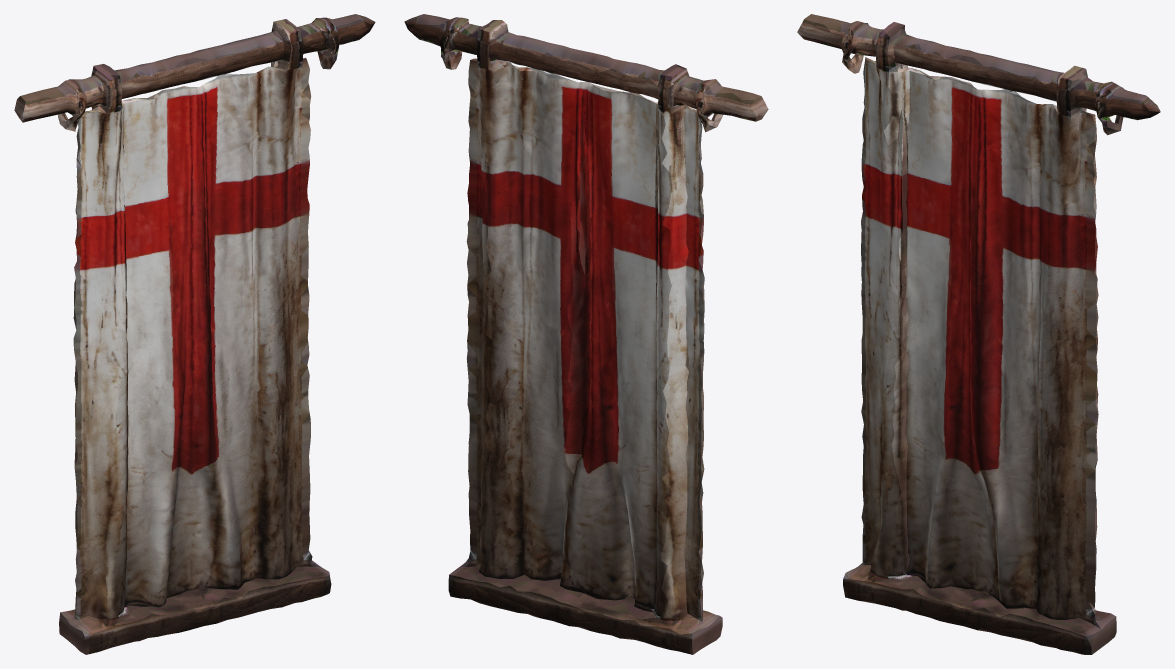
File: banner.glb
The picture shows the model from 3 angles, left to right: view 1: azimuth 30°, elevation 25°; view 2: azimuth 150°, elevation 25°; view 3: azimuth 330°, elevation 25°; orthographic projection.
Visible parts, largest first — view 1: geometry_0; view 2: geometry_0; view 3: geometry_0.
Boxes of the visible parts, x1,y1,x2,y2 form: geometry_0: [14, 14, 375, 654]; geometry_0: [404, 14, 768, 654]; geometry_0: [797, 14, 1160, 654].
Size of the model in its own units: 2.64 by 4 by 0.3728.
Materials: 1 (1 with a texture image).
